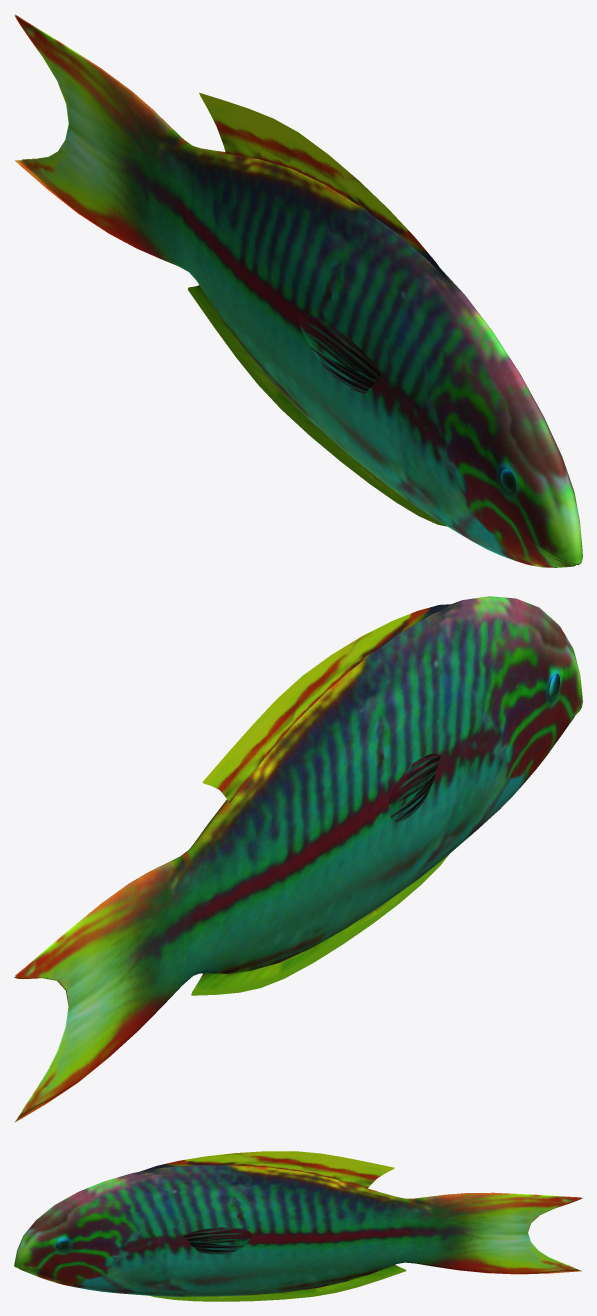
File: fish2.fbx
3 renders of one model, top to bottom at view 1: azimuth 30°, elevation 25°; view 2: azimuth 150°, elevation 25°; view 3: azimuth 270°, elevation 25°, orthographic. The views are drawn at different scales.
Parts seen in each view (by area): view 1: fish02_lunar_mesh; view 2: fish02_lunar_mesh; view 3: fish02_lunar_mesh.
Boxes of the visible parts, <box> form: fish02_lunar_mesh: <box>14,14,582,567</box>; fish02_lunar_mesh: <box>14,596,582,1122</box>; fish02_lunar_mesh: <box>14,1151,582,1301</box>.
Size of the model in its own units: 4.09 by 12.42 by 42.5.
